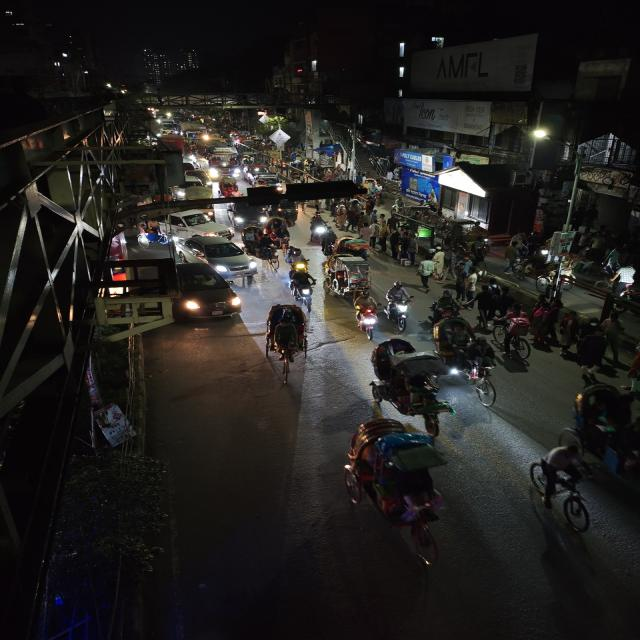bicycle: (523, 448, 607, 532), (492, 307, 534, 363)
bus: (202, 142, 242, 180), (159, 121, 183, 138)
car: (168, 262, 242, 324), (181, 234, 258, 278), (228, 203, 268, 229), (253, 174, 282, 188)
cng: (275, 198, 302, 223)
human_hauler: (184, 183, 215, 200)
motorcycle: (384, 280, 414, 330), (287, 260, 316, 308), (352, 304, 380, 341), (308, 211, 334, 244)
pedestrian: (574, 329, 615, 375), (547, 316, 578, 357), (472, 285, 497, 327), (452, 258, 476, 296), (421, 302, 445, 340), (416, 256, 438, 292), (623, 346, 640, 390), (399, 230, 418, 268), (432, 246, 451, 282), (494, 285, 516, 315), (387, 228, 405, 258), (368, 222, 385, 250), (336, 205, 351, 231)
rickshaw: (337, 413, 459, 570), (364, 335, 456, 424), (434, 319, 499, 406), (262, 301, 311, 379), (323, 253, 376, 305), (242, 225, 282, 271), (336, 235, 374, 261), (265, 216, 294, 247), (217, 179, 240, 197)
